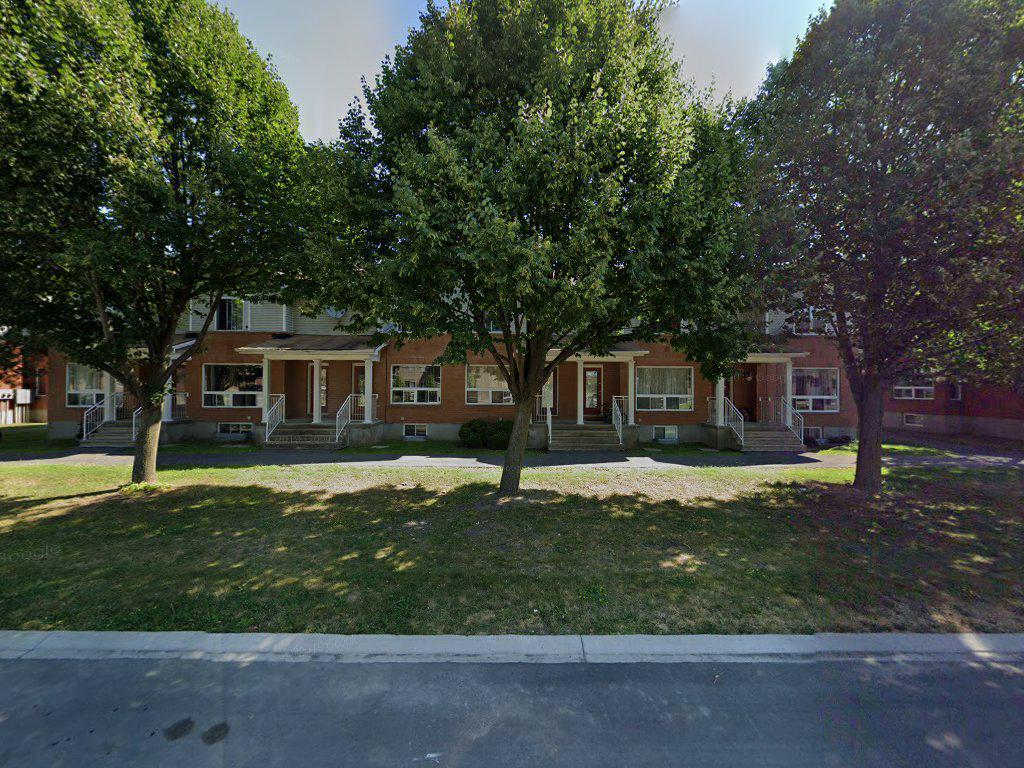trunk: (127, 323, 173, 492), (496, 355, 544, 504), (851, 354, 895, 511)
